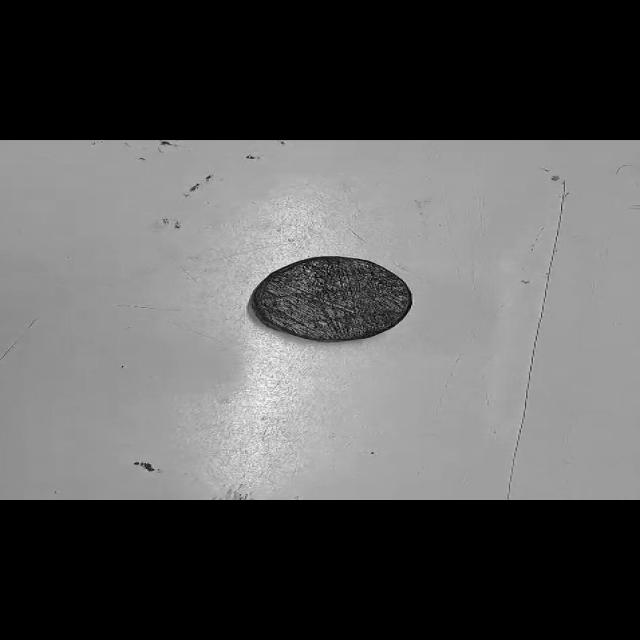bcircle: (249, 255, 416, 342)
